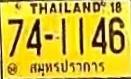1: (78, 16, 83, 54), (61, 18, 66, 54)
4: (91, 16, 106, 53), (26, 18, 41, 55)
6: (108, 16, 124, 53)
7: (7, 18, 23, 56)
SPK: (28, 59, 106, 74)
